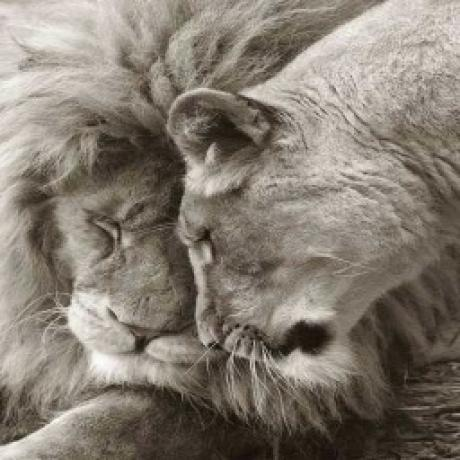Lion: (166, 0, 458, 381), (0, 0, 196, 460)
